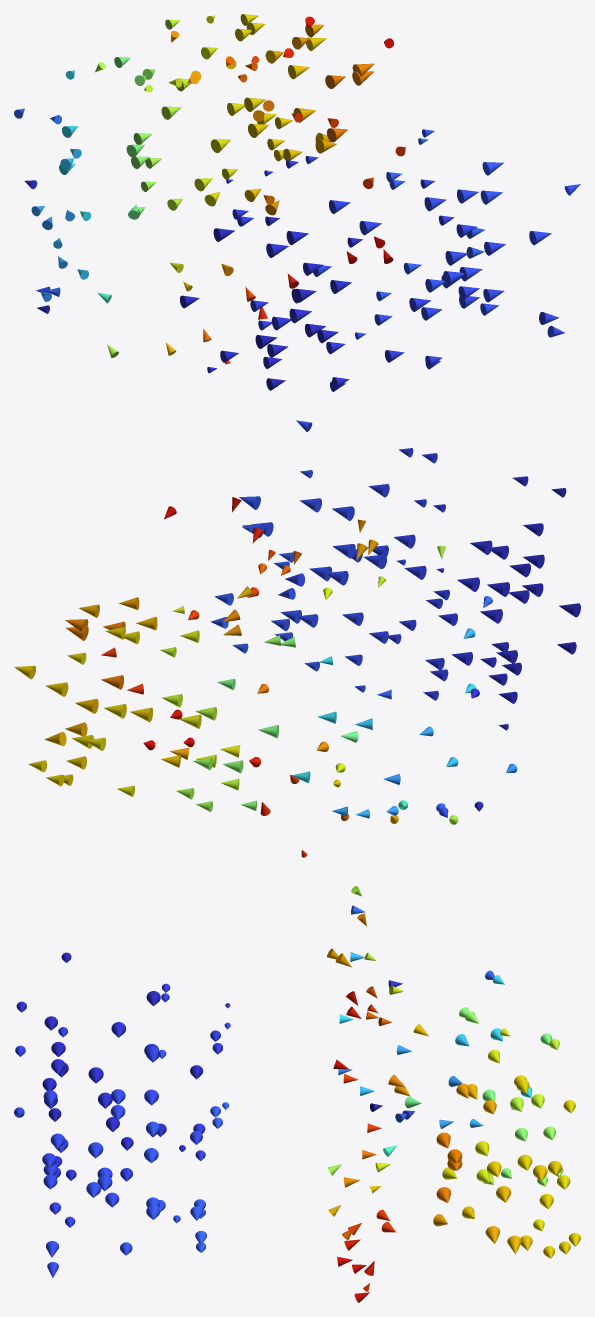
Rendered from LineasCorrienteN2-H2O_mh2-5.58_V-0.8.glb.
The picture shows the model from 3 angles, top to bottom: view 1: azimuth 30°, elevation 25°; view 2: azimuth 150°, elevation 25°; view 3: azimuth 270°, elevation 25°; orthographic projection.
Bounding box in the file's own units: 0.000964 × 0.000817 × 0.0012.
Materials: 2 (2 with a texture image).
